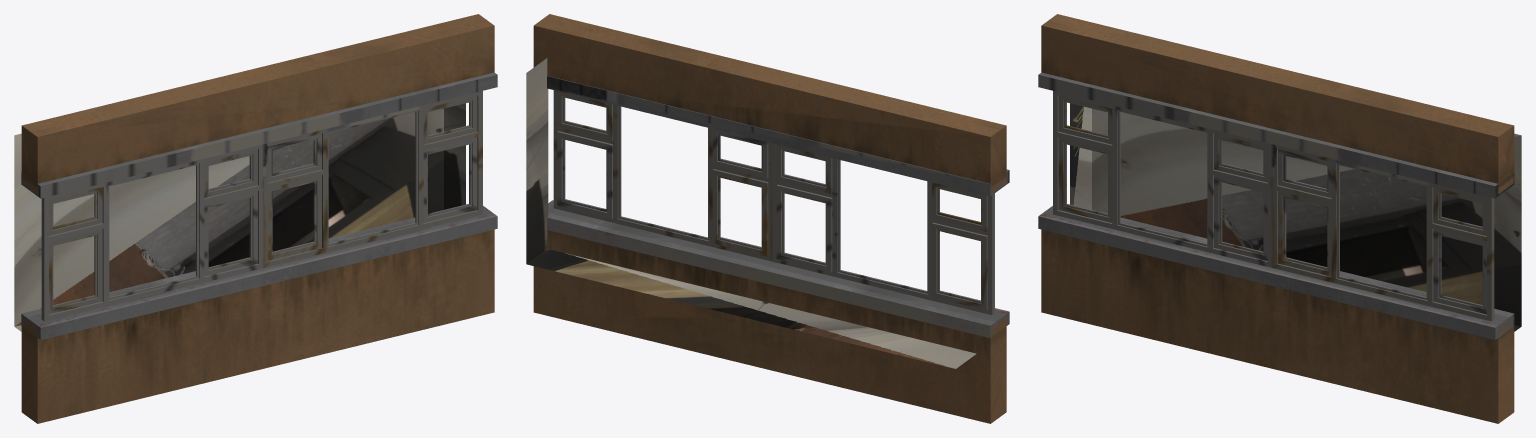
Rendered from Test_Windows.gltf.
3 views of the same model, side by side, from view 1: azimuth 30°, elevation 25°; view 2: azimuth 150°, elevation 25°; view 3: azimuth 330°, elevation 25° (orthographic).
Parts seen in each view (by area): view 1: Set_02_Wall_Windows_3m_42; view 2: Set_02_Wall_Windows_3m_42; view 3: Set_02_Wall_Windows_3m_42.
Boxes of the visible parts, x1,y1,x2,y2 form: Set_02_Wall_Windows_3m_42: (14, 14, 497, 423); Set_02_Wall_Windows_3m_42: (526, 14, 1009, 423); Set_02_Wall_Windows_3m_42: (1038, 14, 1521, 423).
Size of the model in its own units: 5 by 3 by 0.76.
Materials: 4 (4 with a texture image).
